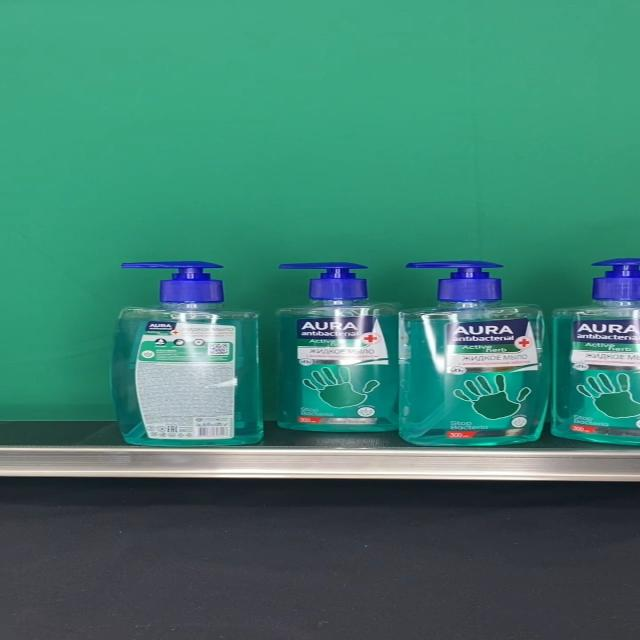Bottle: (398, 259, 551, 447), (110, 262, 263, 448), (276, 261, 398, 432)
Cap: (404, 259, 506, 301), (121, 262, 225, 302), (276, 261, 372, 299)
